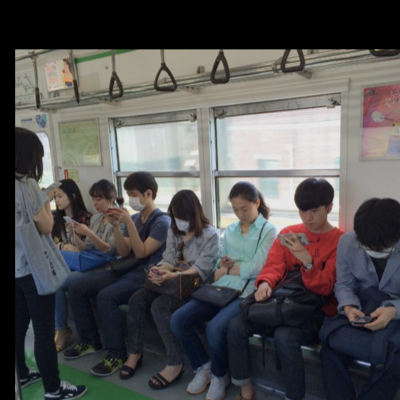with_mask: (129, 191, 146, 212), (173, 214, 190, 234)
without_mask: (298, 207, 325, 230), (232, 202, 256, 223), (91, 195, 110, 213), (53, 192, 68, 210)
